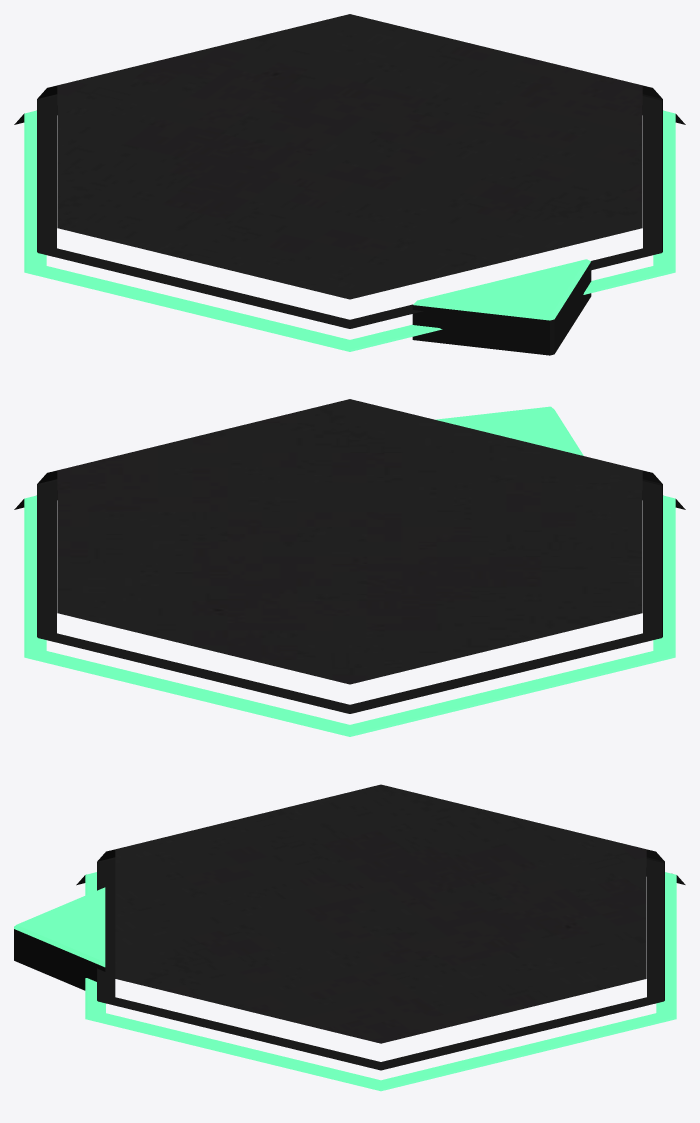
File: jb2ahex2Indicator.glb
3 renders of one model, top to bottom at view 1: azimuth 30°, elevation 25°; view 2: azimuth 150°, elevation 25°; view 3: azimuth 270°, elevation 25°, orthographic. The views are drawn at different scales.
Visible parts, largest first — view 1: base, ForwardMaker.005; view 2: base, ForwardMaker.005; view 3: base, ForwardMaker.005.
Part boxes in pixels (bbox=[...]): base: bbox=[14, 14, 685, 351]; ForwardMaker.005: bbox=[412, 259, 591, 355]; base: bbox=[14, 399, 685, 736]; ForwardMaker.005: bbox=[435, 406, 583, 455]; base: bbox=[76, 784, 685, 1091]; ForwardMaker.005: bbox=[14, 887, 105, 990].
Size of the model in its own units: 2 by 0.1428 by 1.91.
3 materials, 1 textured.
